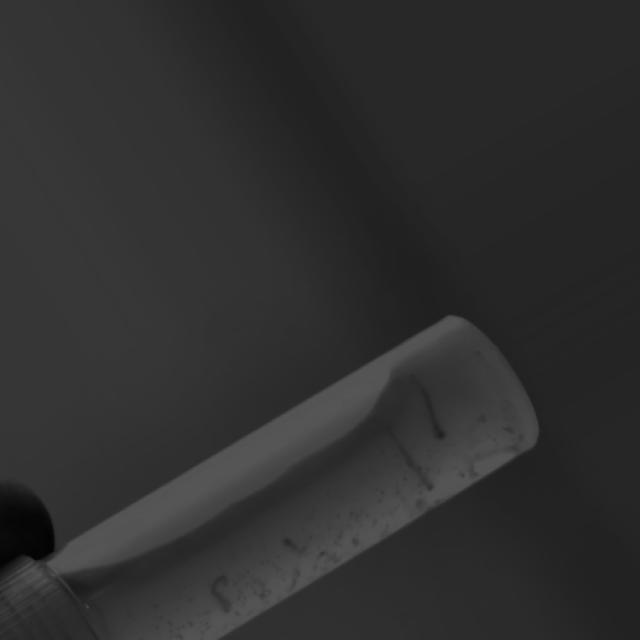larvas: (392, 431, 434, 494), (413, 380, 448, 445), (215, 573, 234, 608), (284, 538, 308, 557)
